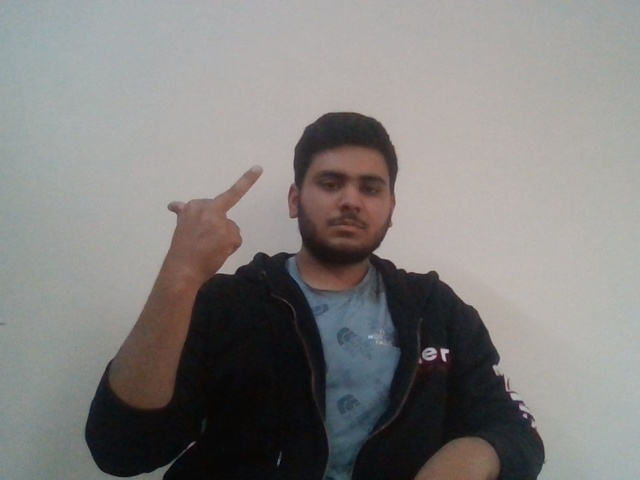Hello: (165, 154, 273, 262)
